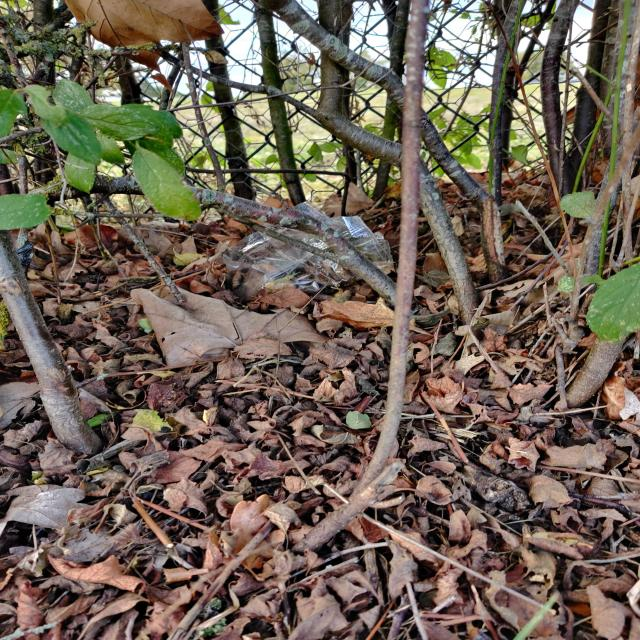litter: (199, 197, 397, 306)
